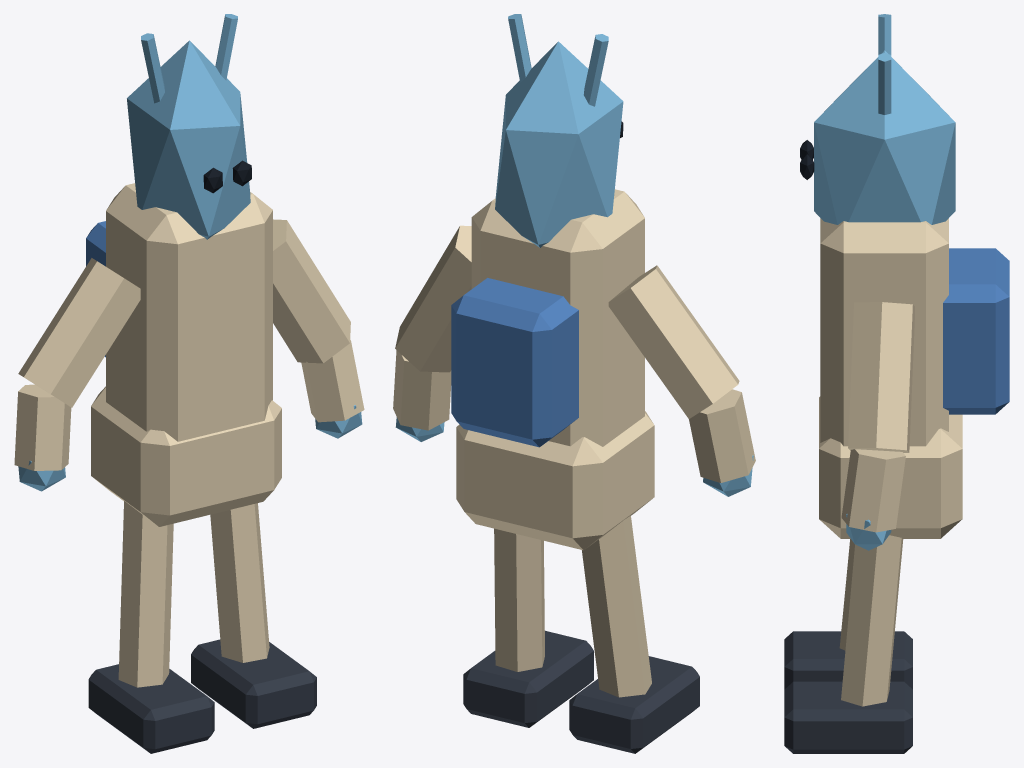
File: npcs_032_seed78877.glb
3 renders of one model, left to right at view 1: azimuth 30°, elevation 25°; view 2: azimuth 150°, elevation 25°; view 3: azimuth 270°, elevation 25°, orthographic. The views are drawn at different scales.
Parts seen in each view (by area): view 1: npcs_032_seed78877; view 2: npcs_032_seed78877; view 3: npcs_032_seed78877.
Part boxes in pixels (box(x1,y1,x2,y2)): npcs_032_seed78877: box(14, 14, 364, 753); npcs_032_seed78877: box(393, 14, 755, 753); npcs_032_seed78877: box(784, 14, 1009, 753).
Size of the model in its own units: 0.9999 by 1.88 by 0.5627.
